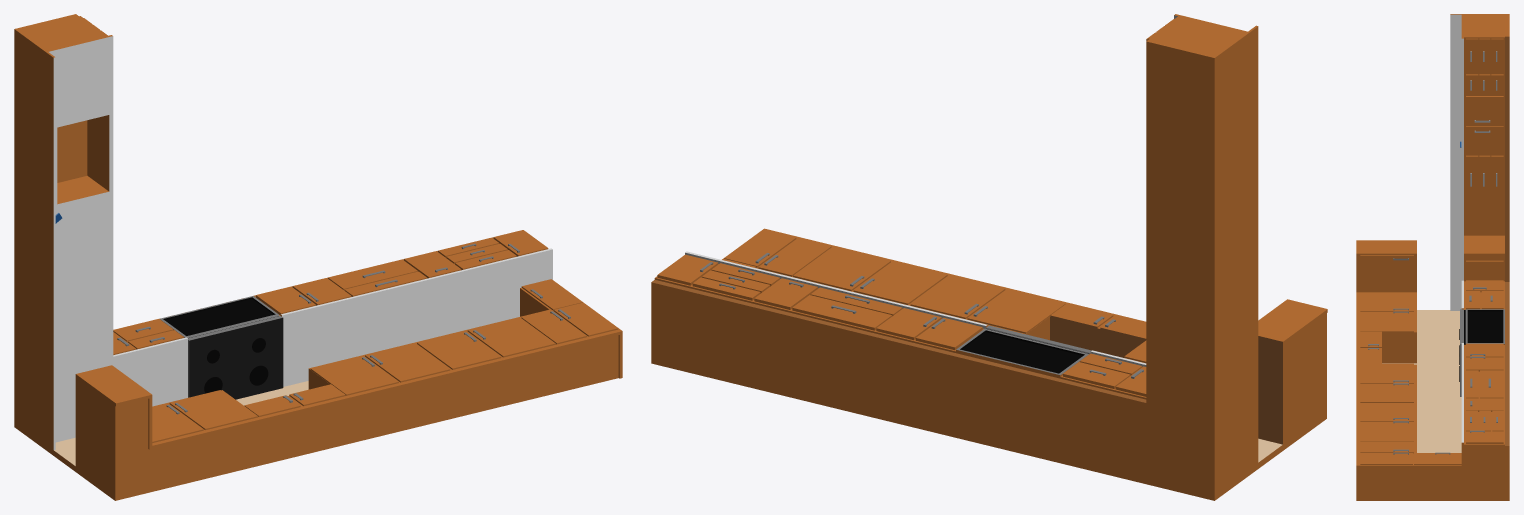
The model's file is cabinets.obj.
3 renders of one model, left to right at view 1: azimuth 30°, elevation 25°; view 2: azimuth 150°, elevation 25°; view 3: azimuth 270°, elevation 25°, orthographic. The views are drawn at different scales.
Visible parts, largest first — view 1: mesh38, mesh17, mesh41, mesh57, mesh2, mesh42, mesh211, mesh25, mesh91, mesh126, mesh267, mesh285 (+18 smaller); view 2: mesh27, mesh41, mesh44, mesh25, mesh91, mesh267, mesh285, mesh110, mesh276, mesh240, mesh28, mesh43 (+13 smaller); view 3: mesh34, mesh68, mesh18, mesh101, mesh211, mesh421, mesh32, mesh29, mesh25, mesh91, mesh64, mesh267 (+43 smaller).
Boxes of the visible parts, x1=… form: mesh38: x1=115, y1=335, x2=618, y2=500; mesh17: x1=49, y1=36, x2=187, y2=442; mesh41: x1=14, y1=29, x2=115, y2=500; mesh57: x1=282, y1=249, x2=552, y2=386; mesh2: x1=189, y1=318, x2=283, y2=399; mesh42: x1=116, y1=331, x2=622, y2=449; mesh211: x1=152, y1=280, x2=621, y2=445; mesh25: x1=15, y1=14, x2=112, y2=57; mesh91: x1=165, y1=299, x2=273, y2=335; mesh126: x1=170, y1=390, x2=257, y2=428; mesh267: x1=311, y1=355, x2=398, y2=394; mesh285: x1=468, y1=317, x2=555, y2=356; mesh27: x1=651, y1=41, x2=1214, y2=500; mesh41: x1=1214, y1=26, x2=1327, y2=500; mesh44: x1=1258, y1=336, x2=1282, y2=444; mesh25: x1=1146, y1=14, x2=1257, y2=57; mesh91: x1=962, y1=332, x2=1082, y2=373; mesh267: x1=968, y1=289, x2=1065, y2=332; mesh285: x1=793, y1=246, x2=890, y2=289; mesh110: x1=1050, y1=315, x2=1146, y2=357; mesh276: x1=911, y1=275, x2=1004, y2=317; mesh240: x1=854, y1=261, x2=946, y2=303; mesh28: x1=651, y1=280, x2=1146, y2=402; mesh43: x1=1258, y1=299, x2=1327, y2=341; mesh34: x1=1356, y1=442, x2=1509, y2=500; mesh68: x1=1382, y1=310, x2=1461, y2=452; mesh18: x1=1450, y1=14, x2=1461, y2=310; mesh101: x1=1360, y1=256, x2=1413, y2=291; mesh211: x1=1356, y1=292, x2=1461, y2=465; mesh421: x1=1464, y1=37, x2=1504, y2=202; mesh32: x1=1464, y1=203, x2=1504, y2=235; mesh29: x1=1505, y1=36, x2=1509, y2=281; mesh25: x1=1450, y1=14, x2=1509, y2=38; mesh91: x1=1467, y1=311, x2=1503, y2=342; mesh64: x1=1360, y1=331, x2=1416, y2=363; mesh267: x1=1360, y1=363, x2=1413, y2=383.
Size of the model in its own units: 0.263 by 0.1975 by 0.0914.
